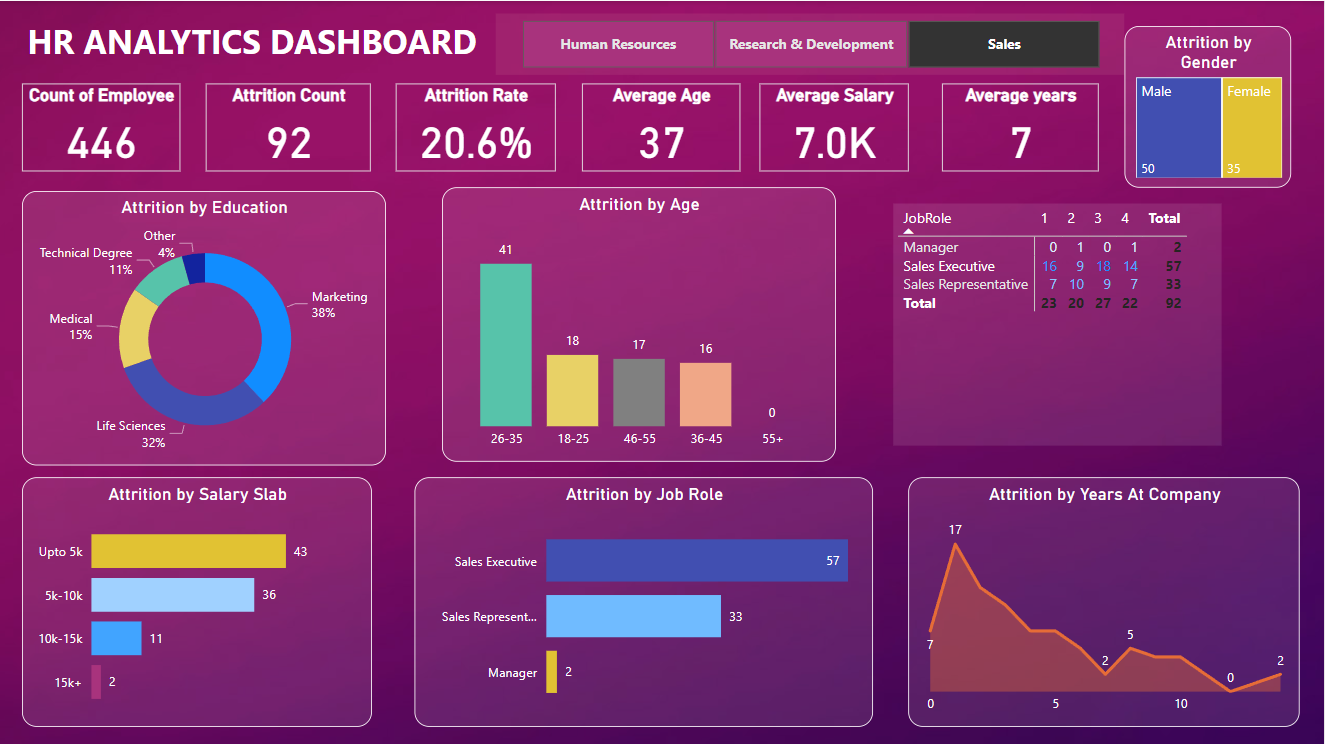

This screenshot's page, from the dashboard's own definition file:
{"tool":"powerbi","page":{"name":"Page 1","canvas":[1280,720],"ordinal":0},"visuals":[{"type":"card","title":"Count of Employee","fields":{"Values":["CountNonNull(HR_Analytics.EmpID)"]},"box":[23.7,79.7,152.5,84.7],"z":0},{"type":"card","title":"Attrition Count ","fields":{"Values":["Sum(HR_Analytics.AttritionCount)"]},"box":[201.7,79.7,159.3,84.7],"z":1000},{"type":"card","title":"Average Age","fields":{"Values":["Avg(HR_Analytics.Age)"]},"box":[564.4,79.7,152.5,84.7],"z":2000},{"type":"card","title":"Attrition Rate","fields":{"Values":["HR_Analytics.AttritionRate"]},"box":[384.7,79.7,154.2,84.7],"z":3000},{"type":"card","title":"Average years","fields":{"Values":["Avg(HR_Analytics.YearsAtCompany)"]},"box":[911.9,79.7,150.8,84.7],"z":4000},{"type":"card","title":"Average Salary","fields":{"Values":["Avg(HR_Analytics.MonthlyIncome)"]},"box":[735.6,79.7,144.1,84.7],"z":5000},{"type":"donutChart","title":"Attrition by Education","fields":{"Category":["HR_Analytics.EducationField"],"Y":["Sum(HR_Analytics.AttritionCount)"]},"box":[23.7,183.1,350.8,264.4],"z":6000},{"type":"columnChart","title":"Attrition by Age","fields":{"Category":["HR_Analytics.AgeGroup"],"Y":["Sum(HR_Analytics.AttritionCount)"]},"box":[428.8,179.7,379.7,264.4],"z":7000},{"type":"barChart","title":"Attrition by Salary Slab","fields":{"Category":["HR_Analytics.SalarySlab"],"Y":["Sum(HR_Analytics.AttritionCount)"]},"box":[23.7,459.3,337.3,240.7],"z":8000},{"type":"barChart","title":"Attrition by Job Role","fields":{"Category":["HR_Analytics.JobRole"],"Y":["Sum(HR_Analytics.AttritionCount)"]},"box":[403.4,459.3,442.4,240.7],"z":9000},{"type":"areaChart","title":"Attrition by Years At Company","fields":{"Category":["HR_Analytics.YearsAtCompany"],"Y":["Sum(HR_Analytics.AttritionCount)"]},"box":[879.7,459.3,378,240.7],"z":10000},{"type":"treemap","title":"Attrition by Gender","fields":{"Group":["HR_Analytics.Gender"],"Values":["Sum(HR_Analytics.AttritionCount)"]},"box":[1088.1,23.7,161,155.9],"z":11000},{"type":"slicer","fields":{"Values":["HR_Analytics.Department"]},"box":[481.4,11.9,606.8,59.3],"z":12000},{"type":"textbox","box":[23.7,11.9,515.3,67.8],"z":13000},{"type":"pivotTable","fields":{"Rows":["HR_Analytics.JobRole"],"Columns":["HR_Analytics.JobSatisfaction"],"Values":["Sum(HR_Analytics.AttritionCount)"]},"box":[864.4,194.9,316.9,233.9],"z":14000}]}

Visuals, with their boxes in screenshot pixels (x1, y1, x2, y2), scaled from the page's 1280x720 canvas onto the 1325x744 screenshot:
"Count of Employee" card: x1=25 y1=82 x2=182 y2=170
"Attrition Count " card: x1=209 y1=82 x2=374 y2=170
"Average Age" card: x1=584 y1=82 x2=742 y2=170
"Attrition Rate" card: x1=398 y1=82 x2=558 y2=170
"Average years" card: x1=944 y1=82 x2=1100 y2=170
"Average Salary" card: x1=761 y1=82 x2=911 y2=170
"Attrition by Education" donutChart: x1=25 y1=189 x2=388 y2=462
"Attrition by Age" columnChart: x1=444 y1=186 x2=837 y2=459
"Attrition by Salary Slab" barChart: x1=25 y1=475 x2=374 y2=723
"Attrition by Job Role" barChart: x1=418 y1=475 x2=876 y2=723
"Attrition by Years At Company" areaChart: x1=911 y1=475 x2=1302 y2=723
"Attrition by Gender" treemap: x1=1126 y1=24 x2=1293 y2=186
slicer - HR_Analytics.Department: x1=498 y1=12 x2=1126 y2=74
textbox: x1=25 y1=12 x2=558 y2=82
pivotTable - HR_Analytics.JobRole x HR_Analytics.JobSatisfaction: x1=895 y1=201 x2=1223 y2=443
